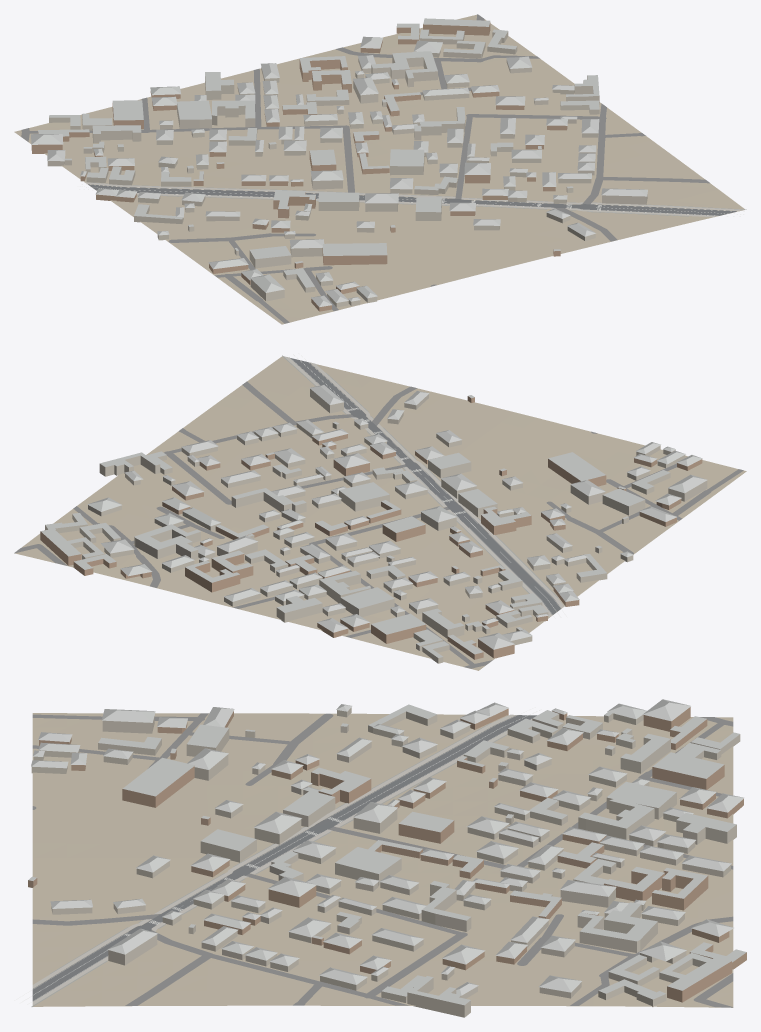
Rendered from bolak_2_7.glb.
The picture shows the model from 3 angles, top to bottom: view 1: azimuth 30°, elevation 25°; view 2: azimuth 150°, elevation 25°; view 3: azimuth 270°, elevation 25°; orthographic projection. The views are drawn at different scales.
Visible parts, largest first — view 1: Yer_Tuproq-col, Tom_Shifer, Devor_Suvoq-col, Devor_Gisht-col, Yol_Mahalla-col, Yol_Asfalt-col, Trotuar, Ariq; view 2: Yer_Tuproq-col, Tom_Shifer, Devor_Suvoq-col, Devor_Gisht-col, Yol_Mahalla-col, Yol_Asfalt-col, Trotuar, Yol_Chiziq; view 3: Yer_Tuproq-col, Tom_Shifer, Devor_Suvoq-col, Devor_Gisht-col, Yol_Mahalla-col, Yol_Asfalt-col, Trotuar, Ariq, Yol_Chiziq.
Boxes of the visible parts, x1,y1,x2,y2 form: Yer_Tuproq-col: (14, 14, 744, 324); Tom_Shifer: (31, 18, 647, 307); Devor_Suvoq-col: (47, 30, 647, 307); Devor_Gisht-col: (31, 22, 567, 311); Yol_Mahalla-col: (21, 14, 709, 323); Yol_Asfalt-col: (88, 184, 736, 215); Trotuar: (85, 182, 743, 217); Ariq: (93, 182, 746, 216); Yer_Tuproq-col: (15, 356, 746, 670); Tom_Shifer: (40, 385, 707, 657); Devor_Suvoq-col: (45, 389, 707, 663); Devor_Gisht-col: (40, 396, 702, 659); Yol_Mahalla-col: (14, 381, 743, 668); Yol_Asfalt-col: (290, 358, 561, 614); Trotuar: (283, 356, 563, 616); Yol_Chiziq: (289, 353, 566, 618); Yer_Tuproq-col: (32, 713, 733, 1007); Tom_Shifer: (28, 699, 746, 1005); Devor_Suvoq-col: (31, 707, 740, 1017); Devor_Gisht-col: (28, 707, 746, 1002); Yol_Mahalla-col: (32, 713, 733, 1007); Yol_Asfalt-col: (32, 715, 537, 1001); Trotuar: (32, 714, 532, 1005); Ariq: (31, 723, 506, 1006); Yol_Chiziq: (14, 707, 541, 1004).
Size of what is drawn, in the model's own units: 426 by 15.99 by 418.
